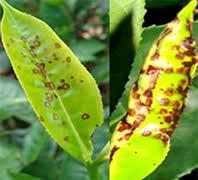Xanthomonas: (2, 30, 104, 150), (111, 20, 196, 157)
